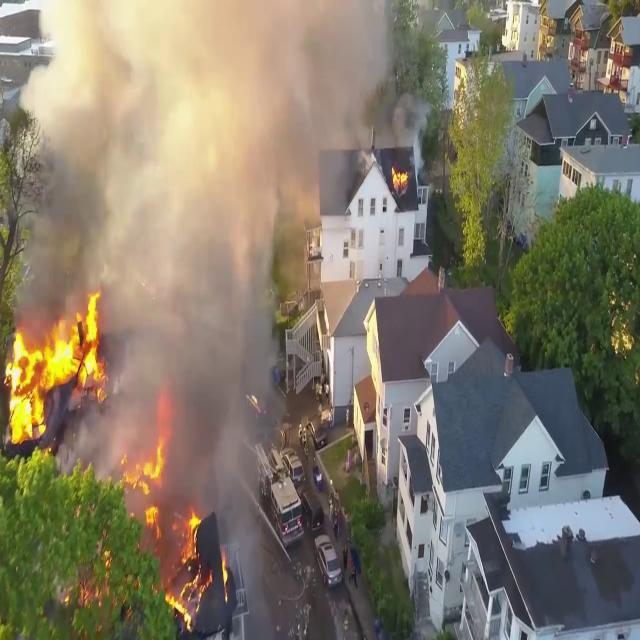Fire: (1, 290, 111, 446), (163, 500, 230, 630), (82, 434, 168, 522), (391, 162, 411, 193)
Smoke: (2, 0, 314, 376)
